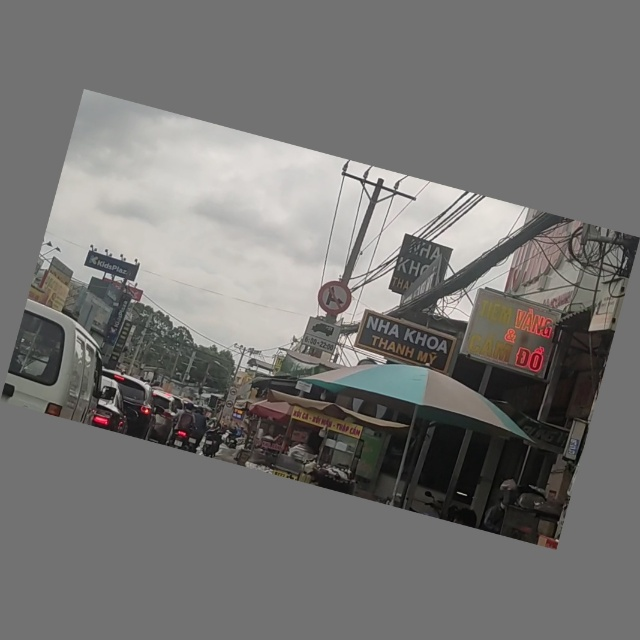P.139: (314, 278, 354, 318)
S.505a*Xe tai: (301, 317, 342, 355)
